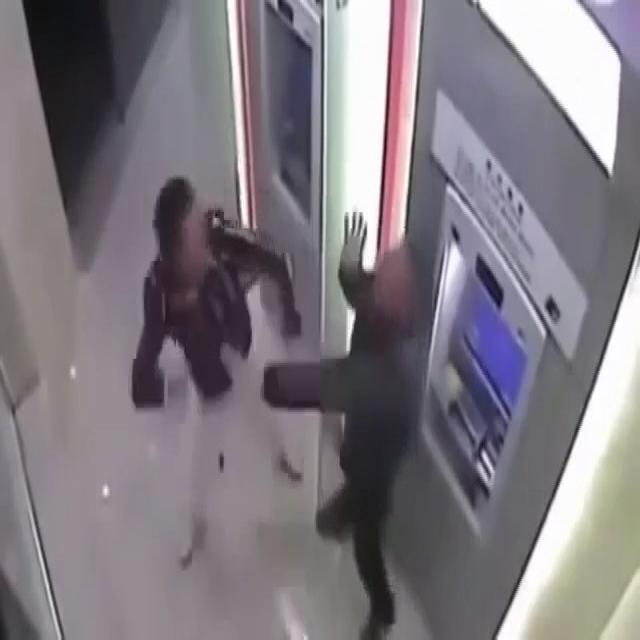fight: (118, 151, 433, 587)
